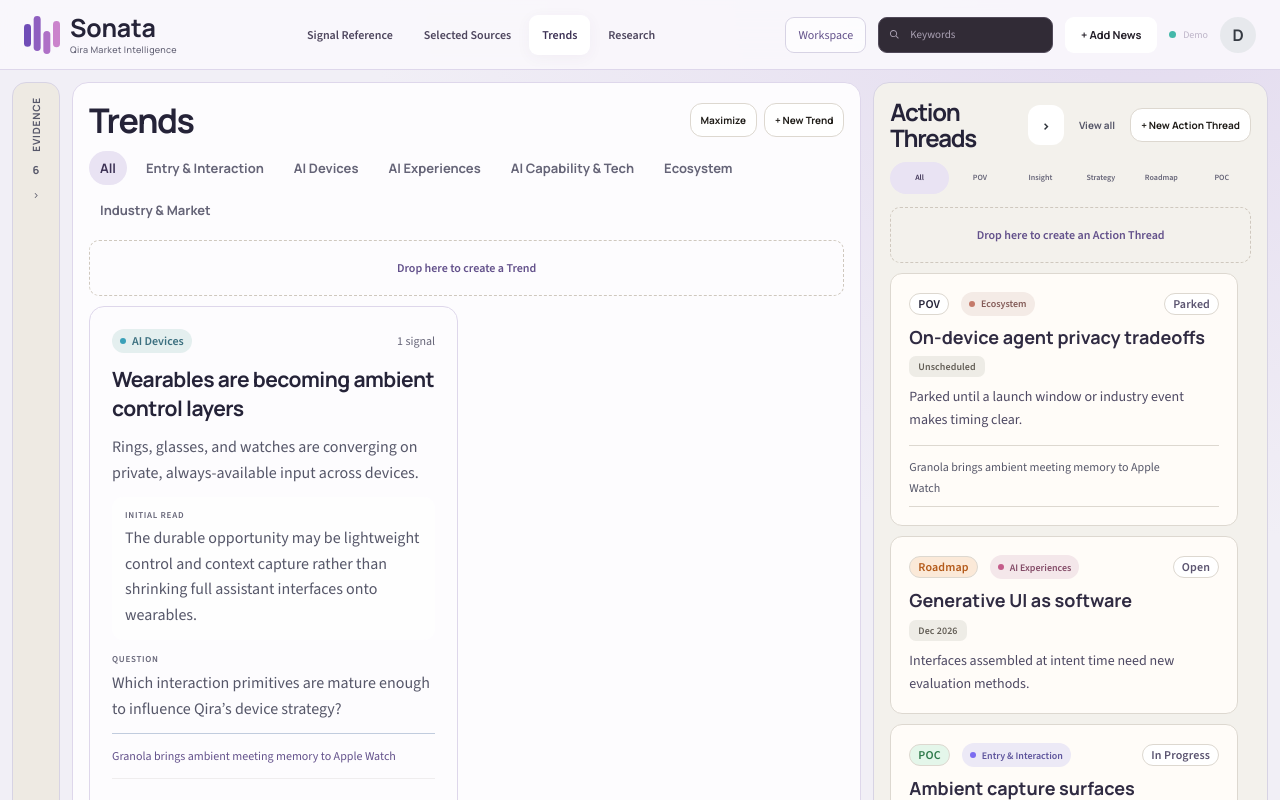
it: dashboard pilot shell › offers explicit research promotion and no meeting controls in the trend editor
Step 1. Click the button "Wearables are becoming ambient control layers" → [274, 394], box [112,365,435,422]
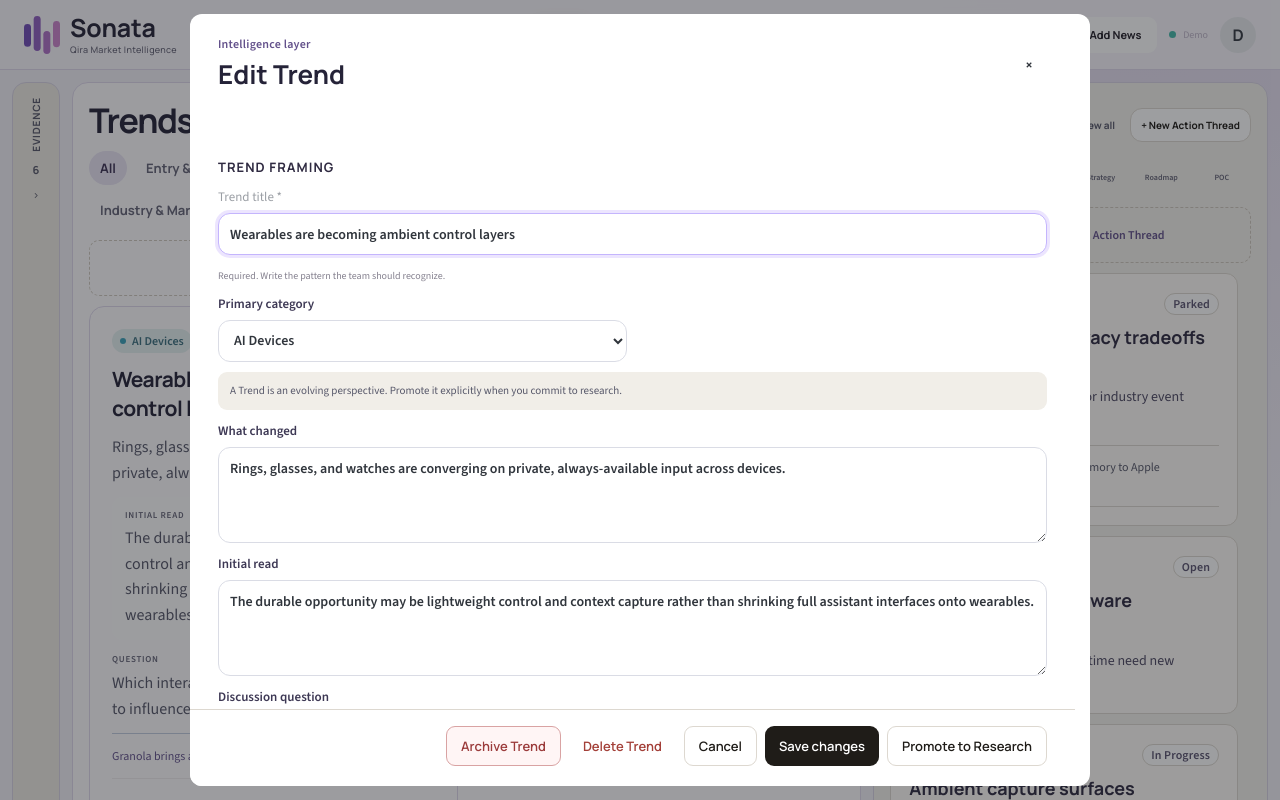
Expected: the button "Promote to Research" is shown, [887,726,1047,766]
